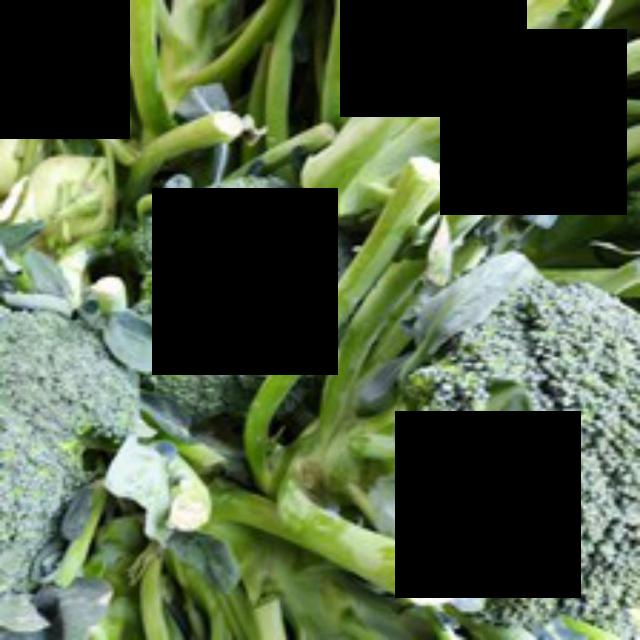broccoli: (377, 240, 637, 637)
